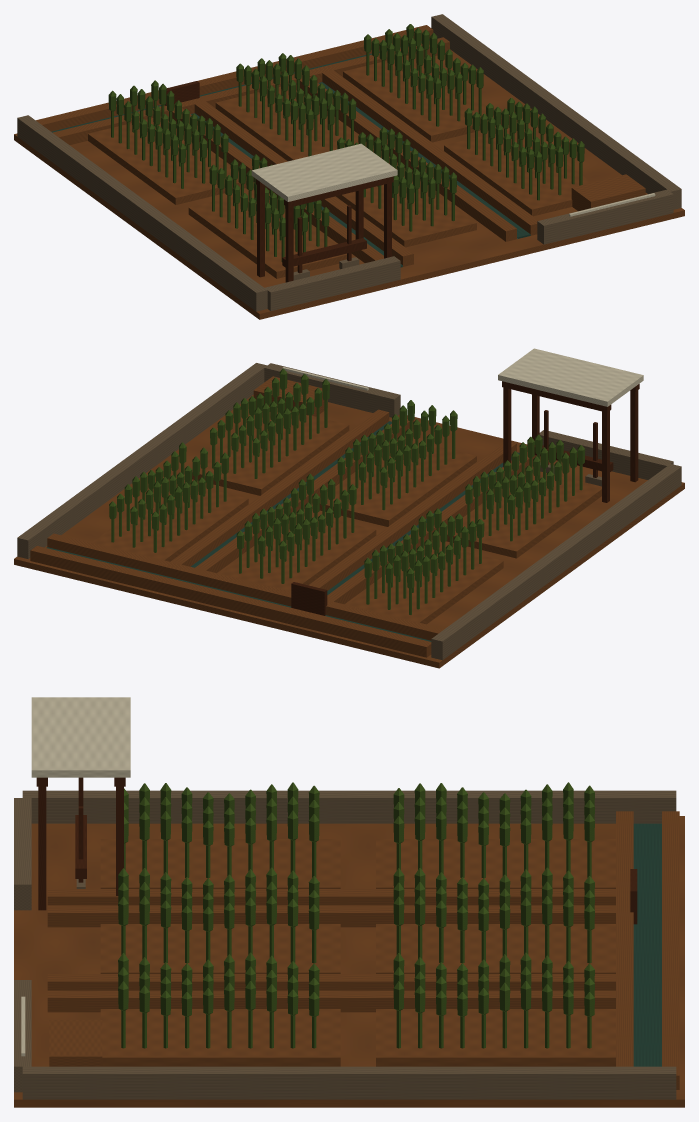
The model's file is Berber_Farm_Age2.fbx.
3 views of the same model, one above another, from view 1: azimuth 30°, elevation 25°; view 2: azimuth 150°, elevation 25°; view 3: azimuth 270°, elevation 25° (orthographic). The views are drawn at different scales.
Visible parts, largest first — view 1: flat_earth_plot, low_side_edging, low_side_edging.001, woven_tool_shade, raised_bed_0_1, raised_bed_2_0, raised_bed_2_1, branch_channel_bank.003, raised_bed_1_1, raised_bed_0_0, raised_bed_1_0, south_edge_open_entry (+14 smaller); view 2: flat_earth_plot, low_side_edging, low_side_edging.001, header_channel_bank.001, header_channel_bank, woven_tool_shade, raised_bed_0_0, raised_bed_2_0, raised_bed_1_0, raised_bed_0_1, raised_bed_2_1, raised_bed_1_1 (+14 smaller); view 3: flat_earth_plot, low_side_edging.001, low_side_edging, raised_bed_2_1, raised_bed_2_0, raised_bed_1_0, raised_bed_1_1, raised_bed_0_1, raised_bed_0_0, woven_tool_shade, branch_channel_bank.001, branch_channel_bank.003 (+10 smaller).
Part boxes in pixels (box(x1,y1,x2,y2)): flat_earth_plot: box(14, 49, 684, 319); low_side_edging: box(17, 115, 267, 311); low_side_edging.001: box(431, 14, 681, 209); woven_tool_shade: box(251, 143, 397, 201); raised_bed_0_1: box(88, 116, 246, 204); raised_bed_2_0: box(444, 128, 591, 216); raised_bed_2_1: box(343, 54, 501, 142); branch_channel_bank.003: box(322, 70, 538, 235); raised_bed_1_1: box(215, 85, 373, 161); raised_bed_0_0: box(188, 191, 346, 278); raised_bed_1_0: box(336, 159, 476, 247); south_edge_open_entry: box(264, 256, 400, 310); flat_earth_plot: box(14, 394, 684, 668); low_side_edging: box(431, 464, 681, 660); low_side_edging.001: box(17, 363, 267, 559); header_channel_bank.001: box(30, 546, 431, 657); header_channel_bank: box(47, 533, 444, 640); woven_tool_shade: box(498, 348, 643, 406); raised_bed_0_0: box(446, 470, 601, 558); raised_bed_2_0: box(192, 408, 349, 495); raised_bed_1_0: box(319, 439, 476, 526); raised_bed_0_1: box(347, 544, 503, 624); raised_bed_2_1: box(92, 481, 248, 561); raised_bed_1_1: box(219, 512, 376, 591); flat_earth_plot: box(14, 816, 684, 1107); low_side_edging.001: box(22, 1066, 676, 1099); low_side_edging: box(22, 790, 676, 823); raised_bed_2_1: box(376, 1009, 615, 1066); raised_bed_2_0: box(100, 1009, 340, 1066); raised_bed_1_0: box(100, 924, 340, 973); raised_bed_1_1: box(376, 924, 615, 973); raised_bed_0_1: box(376, 839, 615, 888); raised_bed_0_0: box(100, 839, 340, 888); woven_tool_shade: box(31, 697, 130, 777); branch_channel_bank.001: box(47, 905, 615, 927); branch_channel_bank.003: box(47, 990, 615, 1012).
Size of the model in its own units: 380 by 93.75 by 380.
6 materials, 6 textured.
